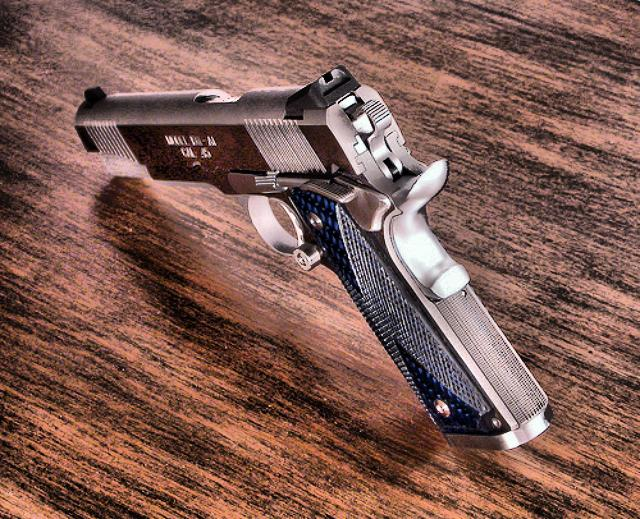pistol: (70, 63, 550, 457)
